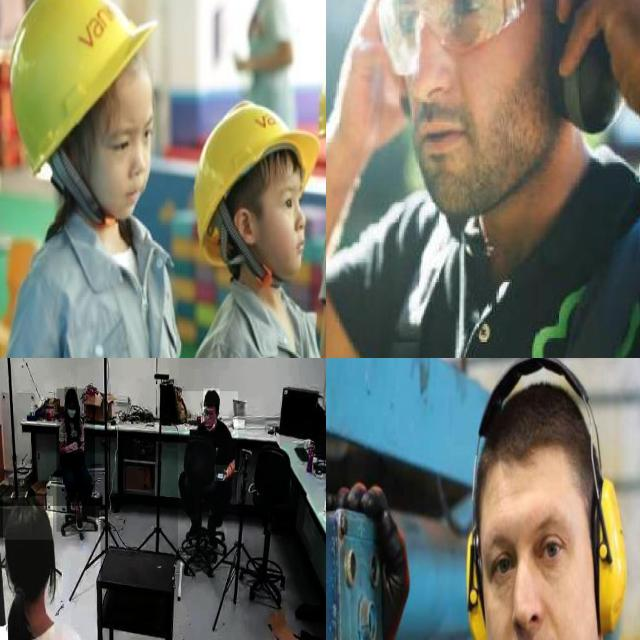Ear-protection: (334, 0, 622, 194), (460, 366, 626, 640)
No_Ear-Protection: (232, 197, 261, 256)
No_Glasses: (484, 492, 580, 602), (96, 109, 170, 171), (266, 177, 308, 226)
face_nomask: (203, 406, 217, 427)
glasses: (352, 0, 561, 85)
hand_glove: (65, 403, 79, 425)
hand_noglove: (214, 465, 228, 482), (66, 440, 78, 452)
head_nohelmet: (3, 496, 53, 541), (204, 388, 220, 406), (64, 387, 78, 401)
person: (326, 0, 640, 358), (393, 358, 640, 640), (0, 506, 100, 640), (178, 391, 238, 567), (56, 388, 95, 532)
